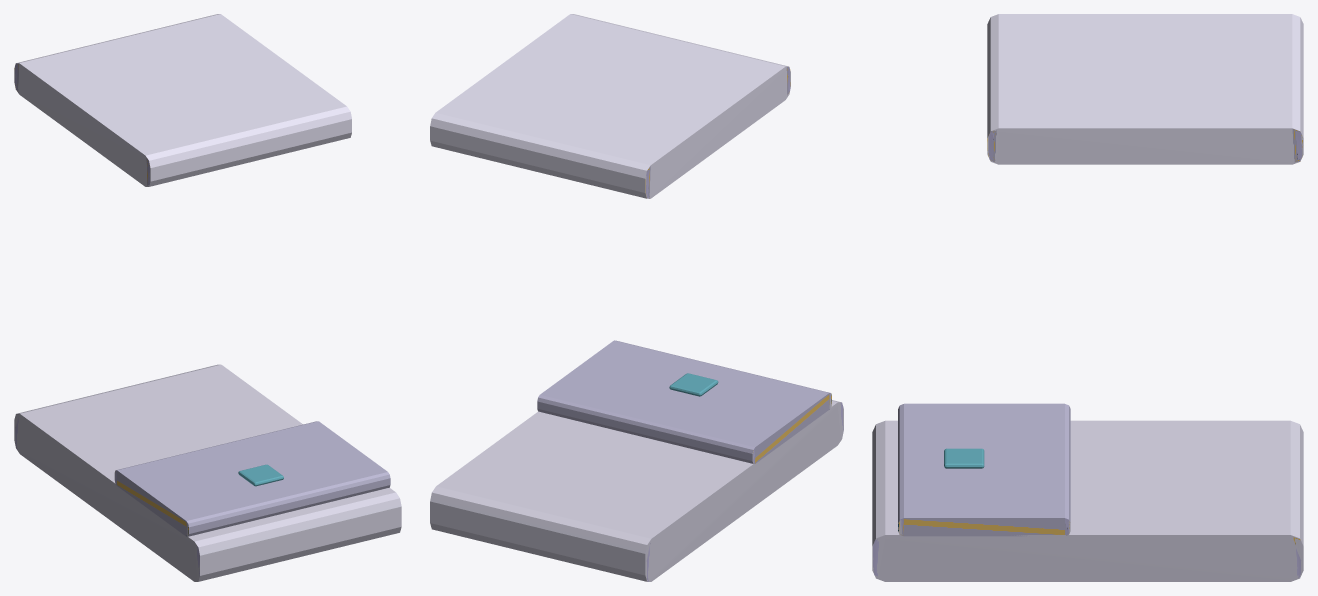
Rendered from SM_ModularShelf_MiddleSection0.fbx.
The picture shows the model from 3 angles, left to right: view 1: azimuth 30°, elevation 25°; view 2: azimuth 150°, elevation 25°; view 3: azimuth 270°, elevation 25°; orthographic projection. The views are drawn at different scales.
Parts seen in each view (by area): view 1: SM_ModularShelf_MiddleSection0; view 2: SM_ModularShelf_MiddleSection0; view 3: SM_ModularShelf_MiddleSection0.
Boxes of the visible parts, x1,y1,x2,y2 form: SM_ModularShelf_MiddleSection0: (14,14,401,581); SM_ModularShelf_MiddleSection0: (430,14,843,581); SM_ModularShelf_MiddleSection0: (872,14,1303,581).
Bounding box in the file's own units: 0.94 × 1.74 × 1.5.
